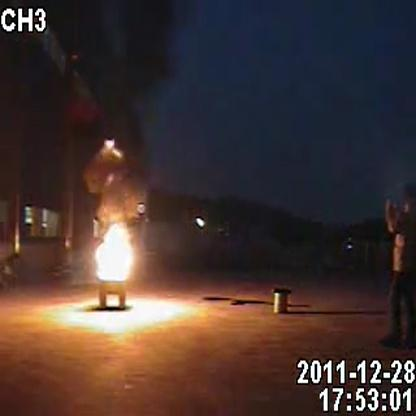Fire: (100, 217, 132, 286)
